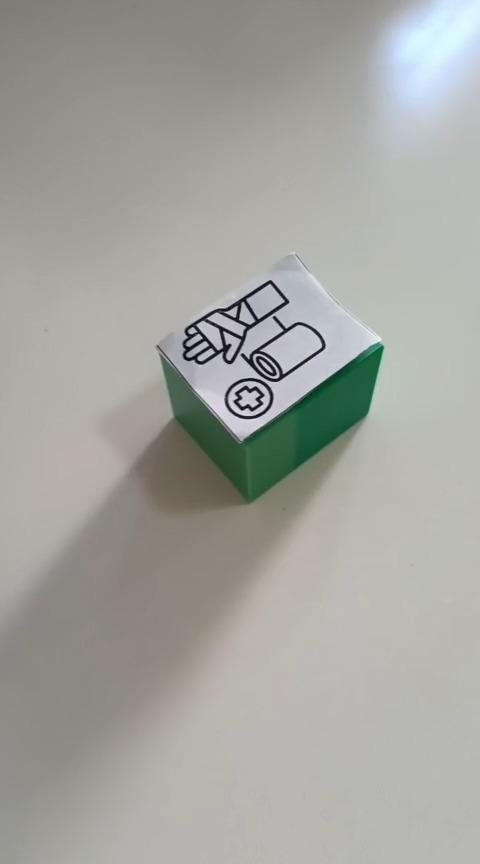Bandages: (155, 250, 384, 503)
